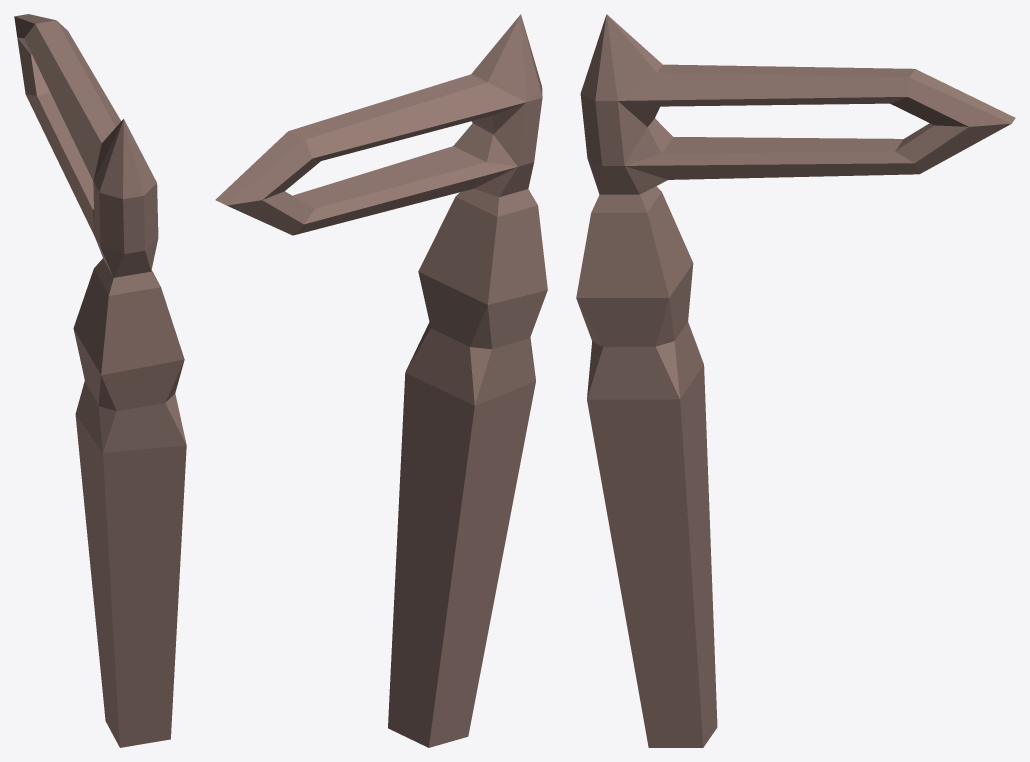
Rendered from wegweiser1.fbx.
3 views of the same model, side by side, from view 1: azimuth 30°, elevation 25°; view 2: azimuth 150°, elevation 25°; view 3: azimuth 270°, elevation 25° (orthographic). The views are drawn at different scales.
Visible parts, largest first — view 1: wegweiser1; view 2: wegweiser1; view 3: wegweiser1.
Part boxes in pixels (bbox=[...]): wegweiser1: bbox=[14, 14, 186, 747]; wegweiser1: bbox=[215, 14, 547, 747]; wegweiser1: bbox=[576, 14, 1015, 747].
Size of the model in its own units: 0.3435 by 1.83 by 1.04.
